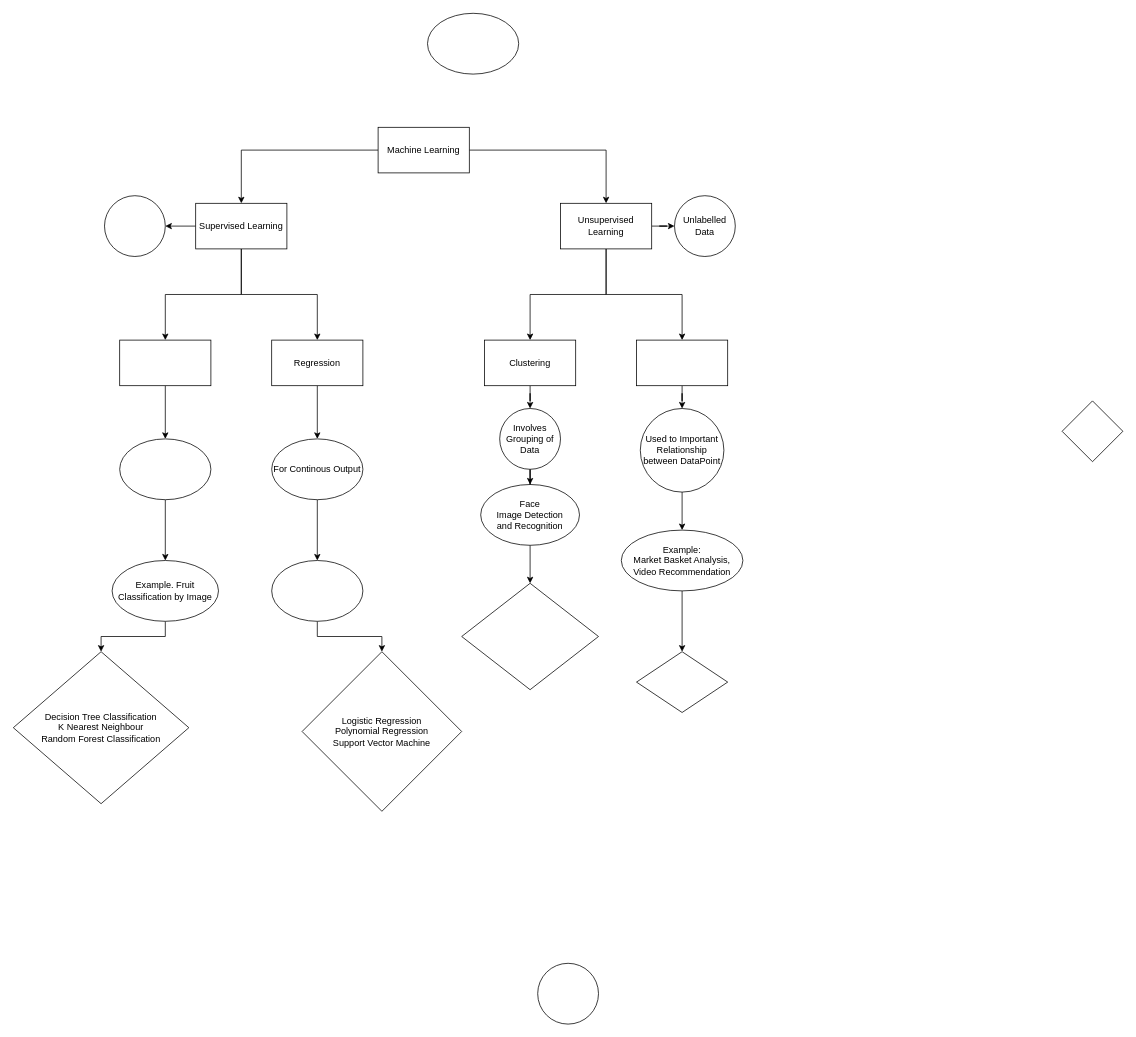
Image size: 1136x1037. Some labels were removed from this diagram. The box of each missing label's shape, as (x1, y1, x2, y2) in pixels:
Apriori FP Growth: (636, 651, 728, 712)
Assotiation: (636, 339, 728, 386)
Classification: (119, 339, 211, 386)
Example: Weather Prediction(Rainfall in cm): (271, 560, 363, 621)
For Discrete Output: (119, 438, 211, 500)
K-Means-Clustering Hierarchical Clustering: (461, 583, 598, 690)
Labelled Data: (104, 195, 165, 256)
